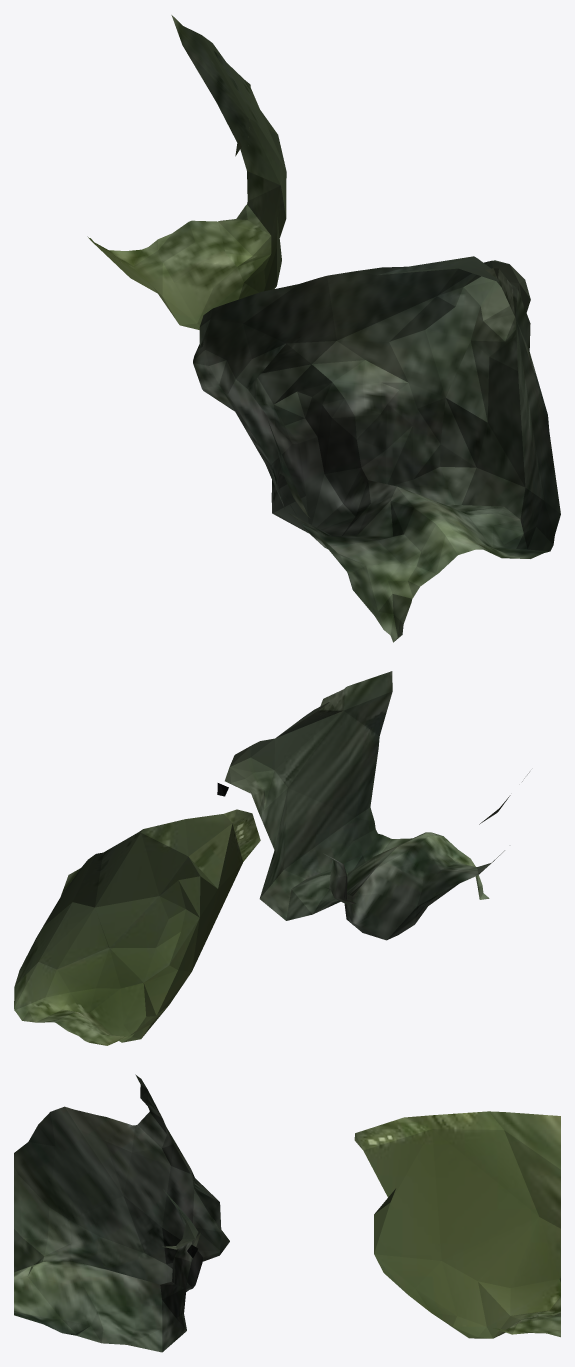
The picture shows the model from 3 angles, top to bottom: view 1: azimuth 30°, elevation 25°; view 2: azimuth 150°, elevation 25°; view 3: azimuth 270°, elevation 25°; orthographic projection. The views are drawn at different scales.
Bounding box in the file's own units: 3.02 × 2.29 × 5.9.
Materials: 2 (2 with a texture image).
